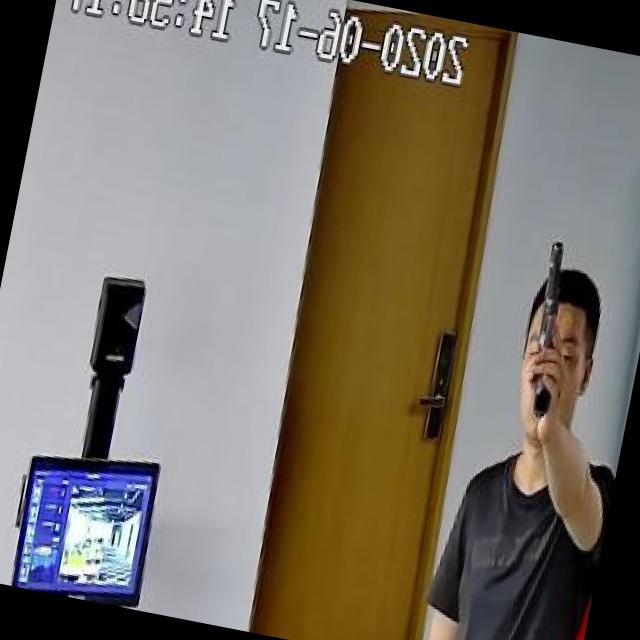Guns: (486, 208, 611, 454)
